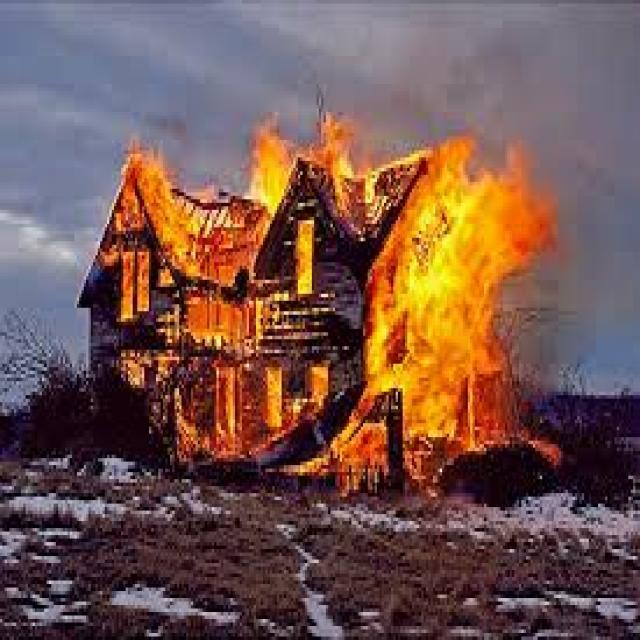Fire: (373, 182, 516, 428), (121, 155, 198, 273)
